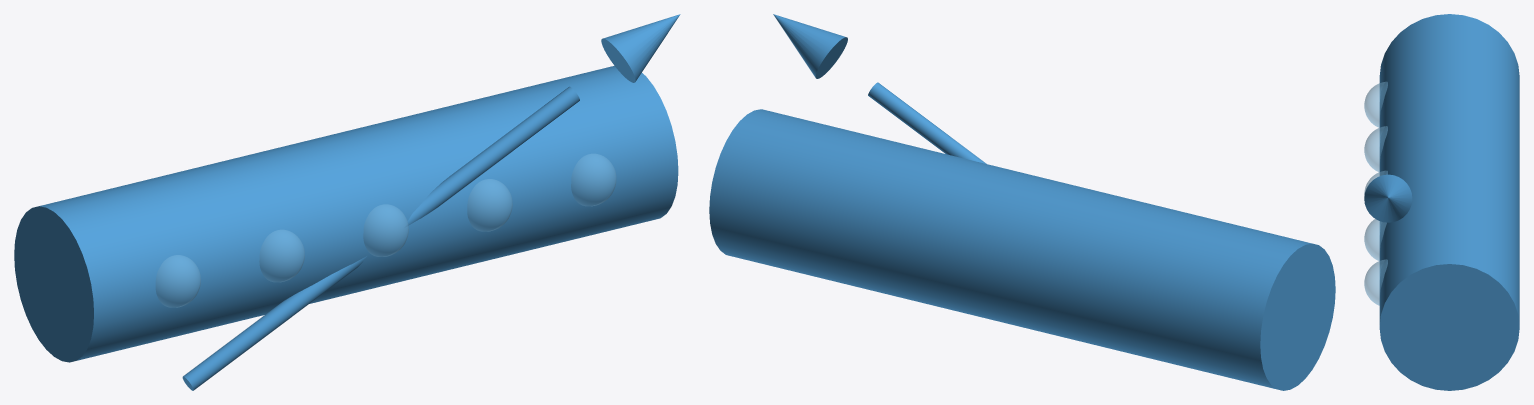
The model's file is bio-p1-xylem.glb.
3 renders of one model, left to right at view 1: azimuth 30°, elevation 25°; view 2: azimuth 150°, elevation 25°; view 3: azimuth 270°, elevation 25°, orthographic. The views are drawn at different scales.
Parts seen in each view (by area): view 1: xylem-water-pipe, water-moves-upward-arrow-shaft, water-moves-upward-arrow-head, water-mineral-flow-3, water-mineral-flow-4, water-mineral-flow-2, water-mineral-flow-0, water-mineral-flow-1; view 2: xylem-water-pipe, water-moves-upward-arrow-head, water-moves-upward-arrow-shaft; view 3: xylem-water-pipe, water-moves-upward-arrow-head, water-mineral-flow-4, water-mineral-flow-0, water-mineral-flow-1, water-mineral-flow-3.
Boxes of the visible parts, left/top/right/bottom form: xylem-water-pipe: left=14, top=66, right=678, bottom=362; water-moves-upward-arrow-shaft: left=182, top=86, right=579, bottom=390; water-moves-upward-arrow-head: left=601, top=14, right=680, bottom=82; water-mineral-flow-3: left=467, top=179, right=512, bottom=231; water-mineral-flow-4: left=571, top=154, right=616, bottom=206; water-mineral-flow-2: left=363, top=204, right=408, bottom=256; water-mineral-flow-0: left=156, top=255, right=200, bottom=307; water-mineral-flow-1: left=259, top=230, right=304, bottom=282; xylem-water-pipe: left=709, top=109, right=1335, bottom=390; water-moves-upward-arrow-head: left=773, top=14, right=847, bottom=78; water-moves-upward-arrow-shaft: left=868, top=82, right=986, bottom=163; xylem-water-pipe: left=1379, top=14, right=1519, bottom=390; water-moves-upward-arrow-head: left=1364, top=174, right=1412, bottom=222; water-mineral-flow-4: left=1364, top=259, right=1387, bottom=305; water-mineral-flow-0: left=1364, top=82, right=1387, bottom=127; water-mineral-flow-1: left=1364, top=126, right=1387, bottom=172; water-mineral-flow-3: left=1364, top=219, right=1386, bottom=260.
Size of what is drawn, in the model's own units: 1.37 by 0.567 by 0.355.
